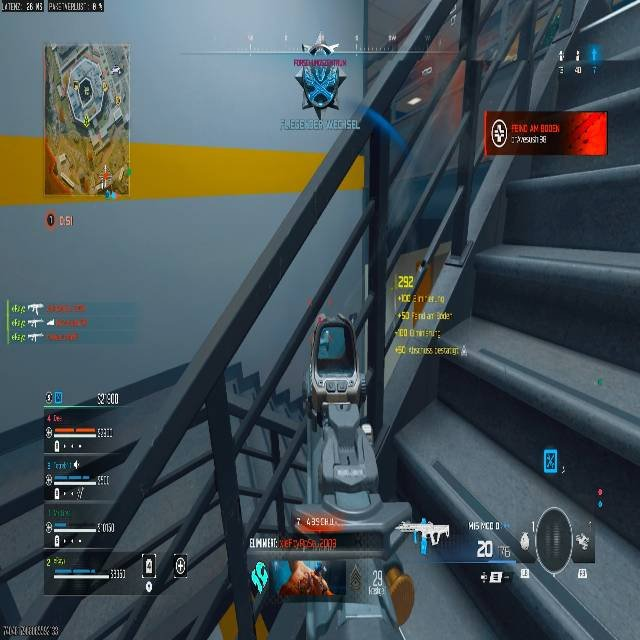head: (309, 43, 332, 56)
player: (292, 42, 347, 119)
